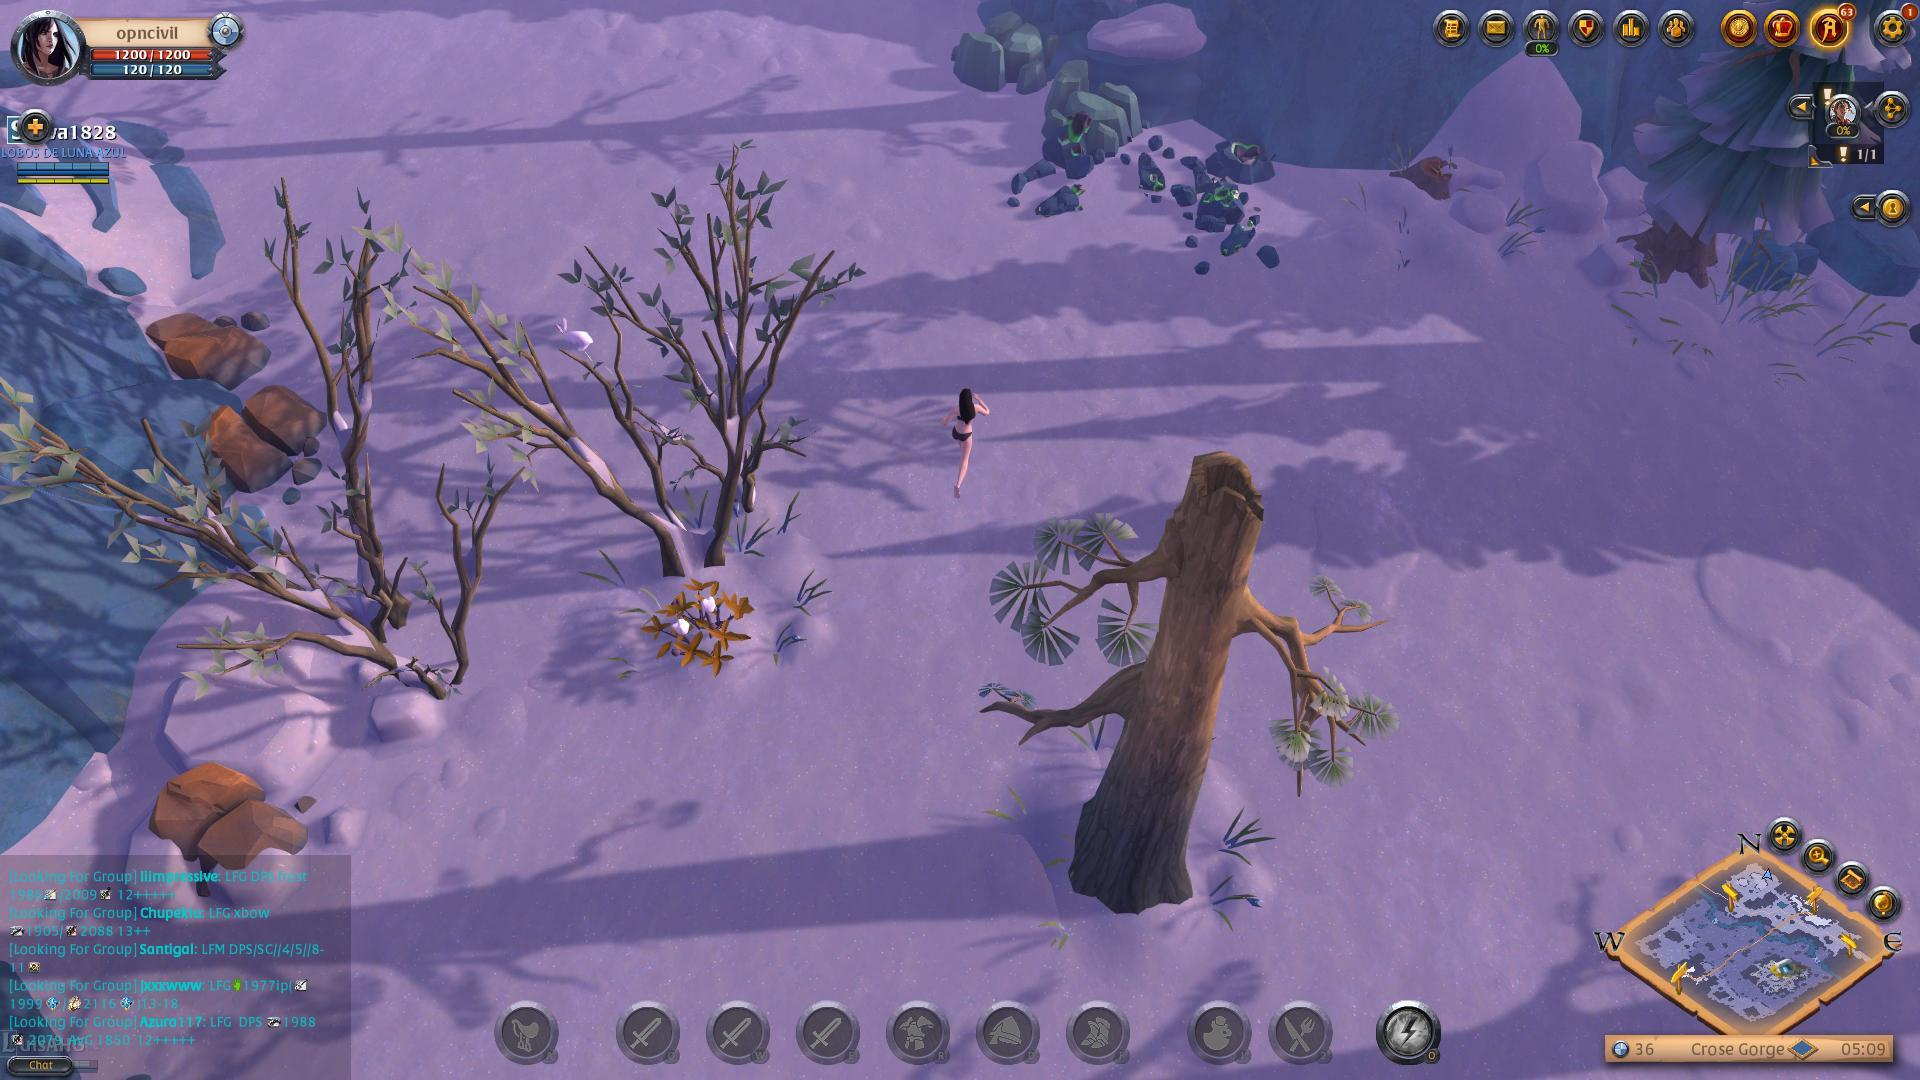cotton: (640, 572, 760, 684)
limestone: (148, 745, 313, 869), (200, 381, 316, 491), (152, 302, 270, 393)
sandstone: (948, 4, 1047, 100)
tin_ore: (1031, 109, 1110, 183)
